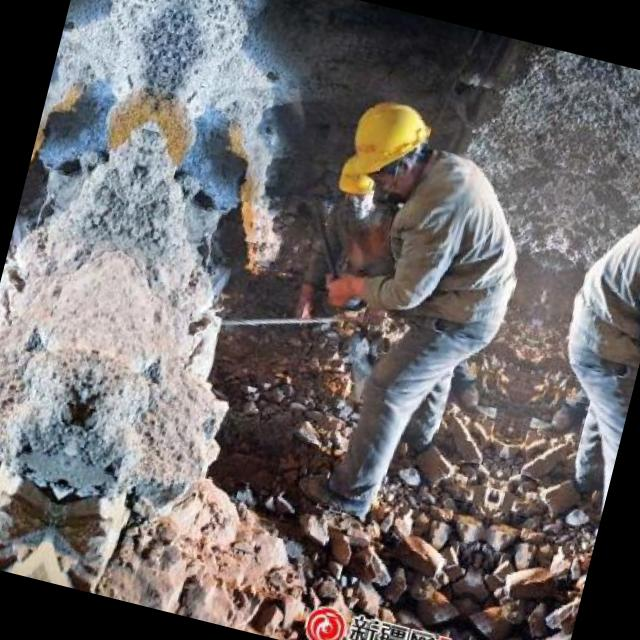helmet: (336, 86, 444, 211), (323, 150, 384, 220)
